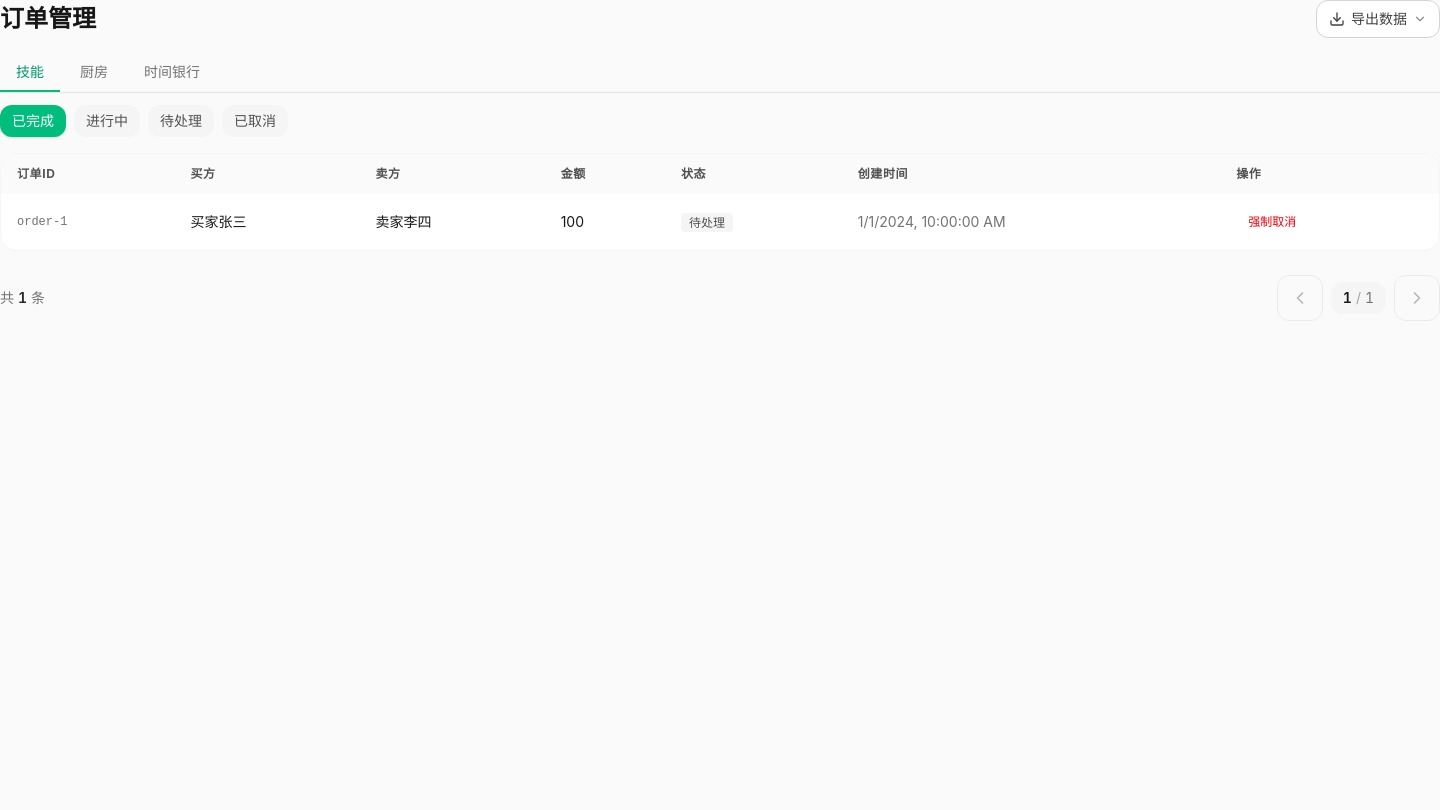
Test: OrderManagement 强制取消订单弹窗 › 输入取消原因后"确认取消"按钮启用
This screenshot has width=1440, height=810.
Expected: the text "买家张三" is shown, x1=174 y1=194 x2=360 y2=250
Click the button "强制取消" at (1272, 222), box x1=1236 y1=206 x2=1308 y2=238
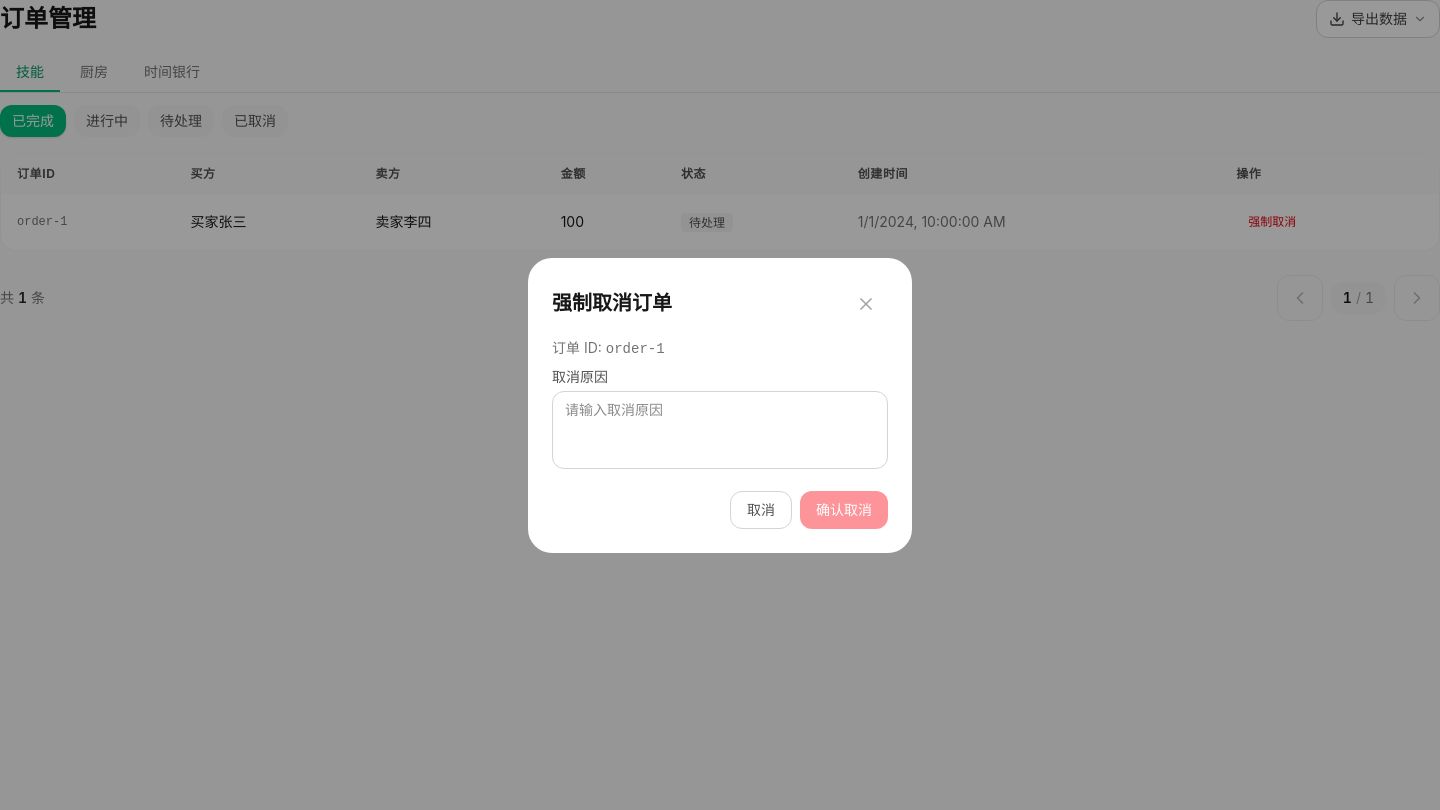
Type "违规操作" into the text box with placeholder "请输入取消原因" at (720, 430), box x1=552 y1=390 x2=888 y2=468
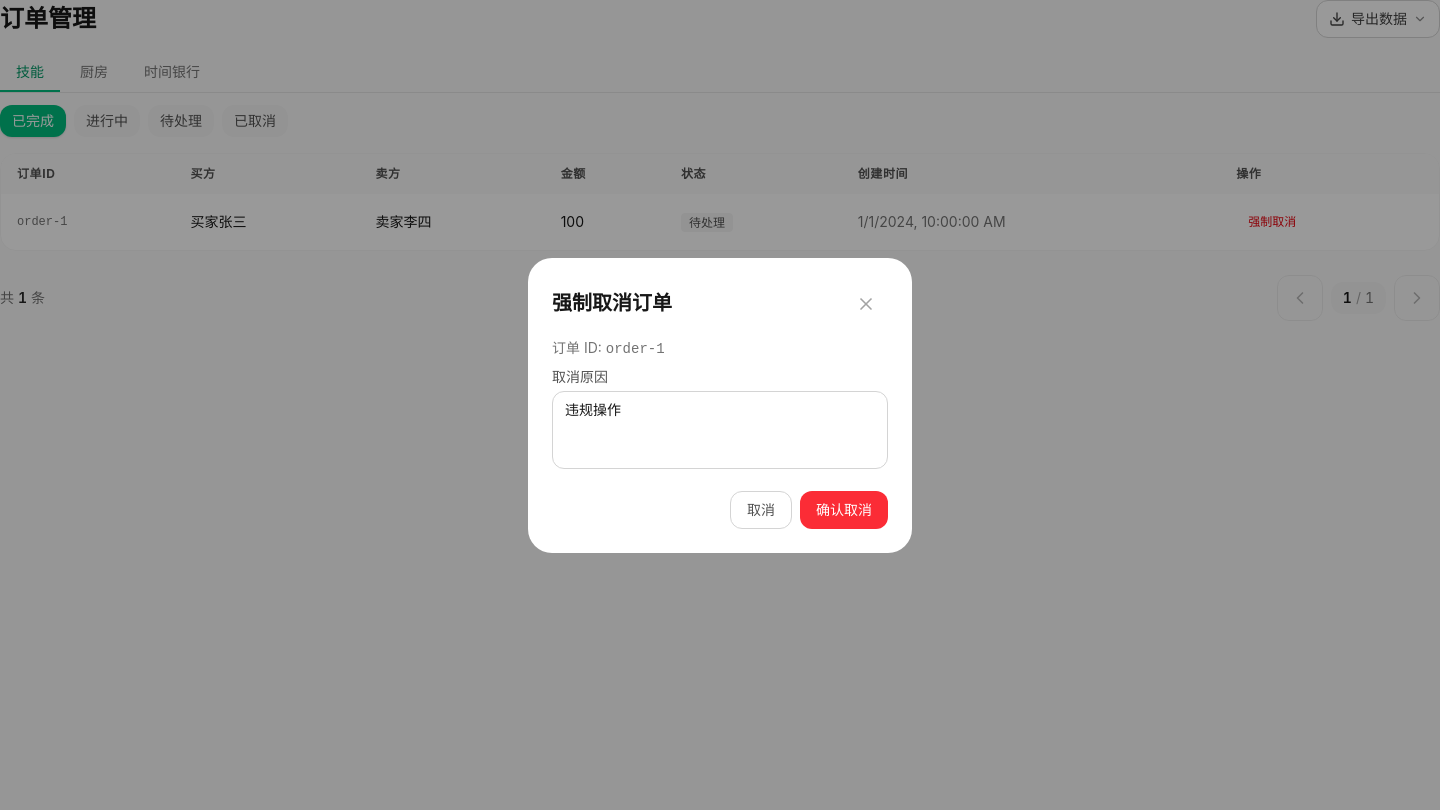
Now the button "确认取消" is enabled, box x1=800 y1=490 x2=888 y2=528
